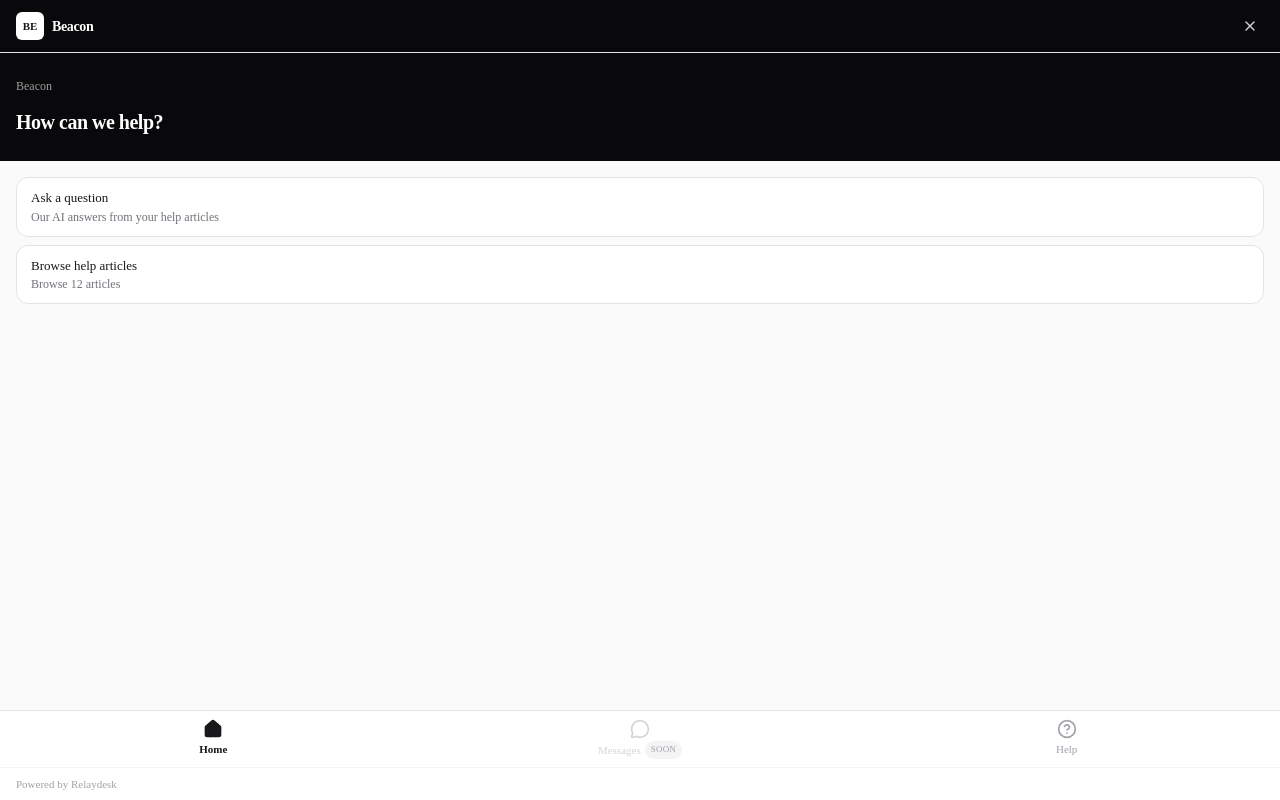
Test: Panel › still passes a configured greeting through to Ask, not Home
The width and height of the screenshot is (1280, 800).
Check: the text "Hi! Need a hand?" is not shown
What coordinates should you click on to do the following:
click the button "Ask a question Our AI answers from your help articles"
I would click on:
 (70, 198)
Its box is [16,177,1264,236].
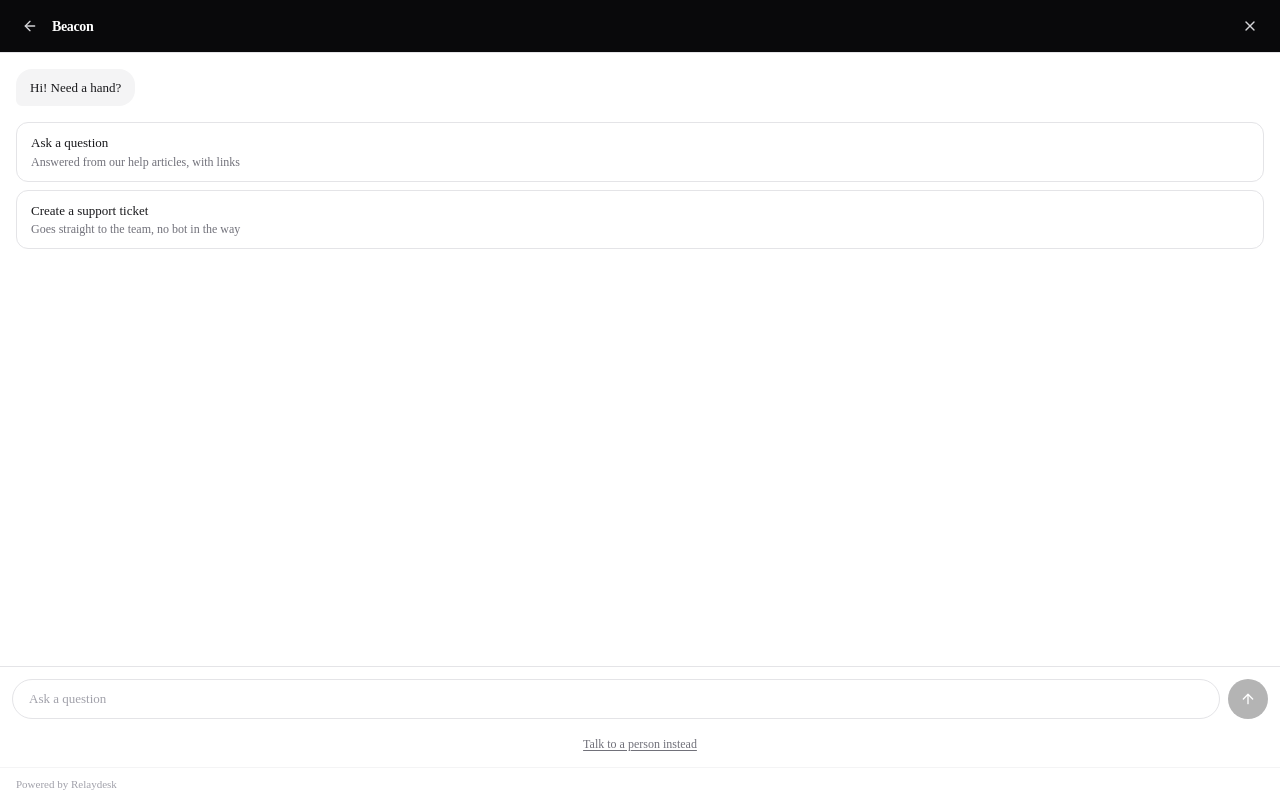
Check: the text "Hi! Need a hand?" is shown, box [16,69,135,106]
